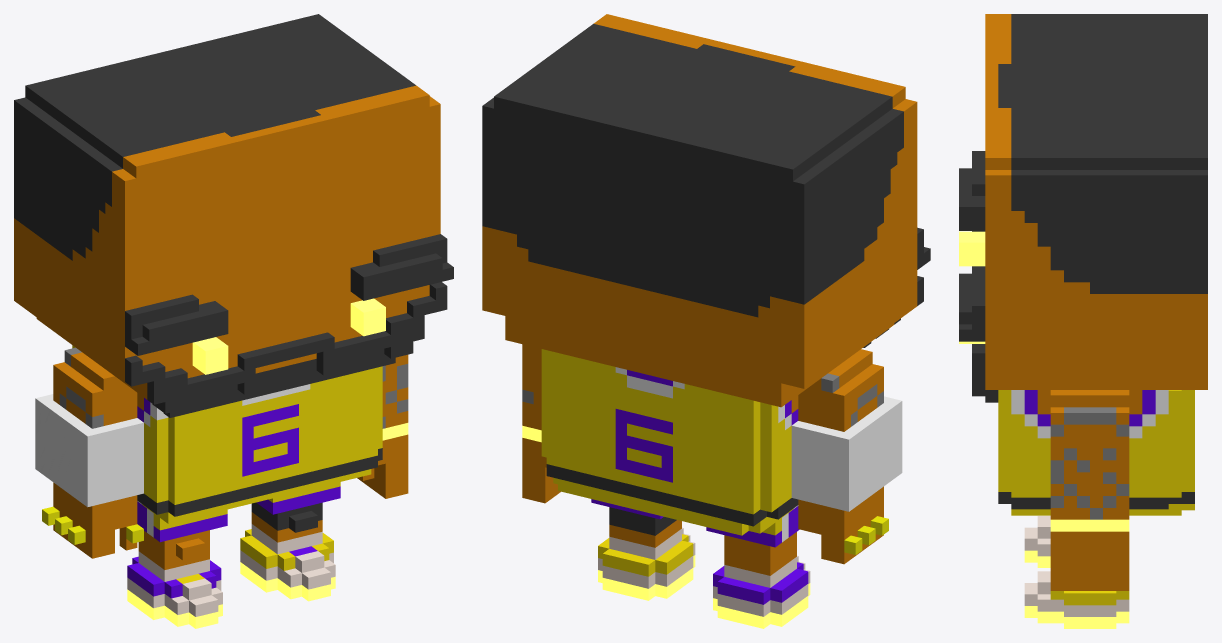
Rendered from asset.glb.
The picture shows the model from 3 angles, left to right: view 1: azimuth 30°, elevation 25°; view 2: azimuth 150°, elevation 25°; view 3: azimuth 270°, elevation 25°; orthographic projection.
Visible parts, largest first — view 1: Lebron-8, Lebron-2, Lebron-6, Lebron-5, Lebron-3, Lebron-4, Lebron-7, Lebron-0, Lebron-1; view 2: Lebron-2, Lebron-8, Lebron-6, Lebron-5, Lebron-3, Lebron-4, Lebron-7, Lebron-0, Lebron-1; view 3: Lebron-2, Lebron-8, Lebron-6, Lebron-7, Lebron-0, Lebron-4, Lebron-5, Lebron-3.
Boxes of the visible parts, x1,y1,x2,y2 form: Lebron-8: (14, 85, 440, 569); Lebron-2: (14, 14, 453, 532); Lebron-6: (72, 345, 382, 583); Lebron-5: (35, 384, 310, 537); Lebron-3: (127, 398, 340, 598); Lebron-4: (127, 524, 335, 616); Lebron-7: (127, 298, 408, 628); Lebron-0: (59, 347, 408, 428); Lebron-1: (42, 506, 143, 544); Lebron-2: (482, 23, 930, 535); Lebron-8: (482, 14, 917, 575); Lebron-6: (541, 349, 793, 576); Lebron-5: (615, 367, 902, 542); Lebron-3: (591, 370, 808, 604); Lebron-4: (598, 527, 810, 616); Lebron-7: (522, 425, 810, 628); Lebron-0: (522, 373, 883, 426); Lebron-1: (844, 516, 888, 554); Lebron-2: (959, 14, 1207, 509); Lebron-8: (985, 14, 1207, 590); Lebron-6: (998, 390, 1194, 605); Lebron-7: (959, 231, 1129, 628); Lebron-0: (1050, 407, 1129, 519); Lebron-4: (1024, 516, 1129, 616); Lebron-5: (1011, 390, 1168, 438); Lebron-3: (1024, 390, 1155, 426).
Bounding box in the file's own units: 2.9 × 4.2 × 1.9.
Materials: 10 (2 with a texture image).
